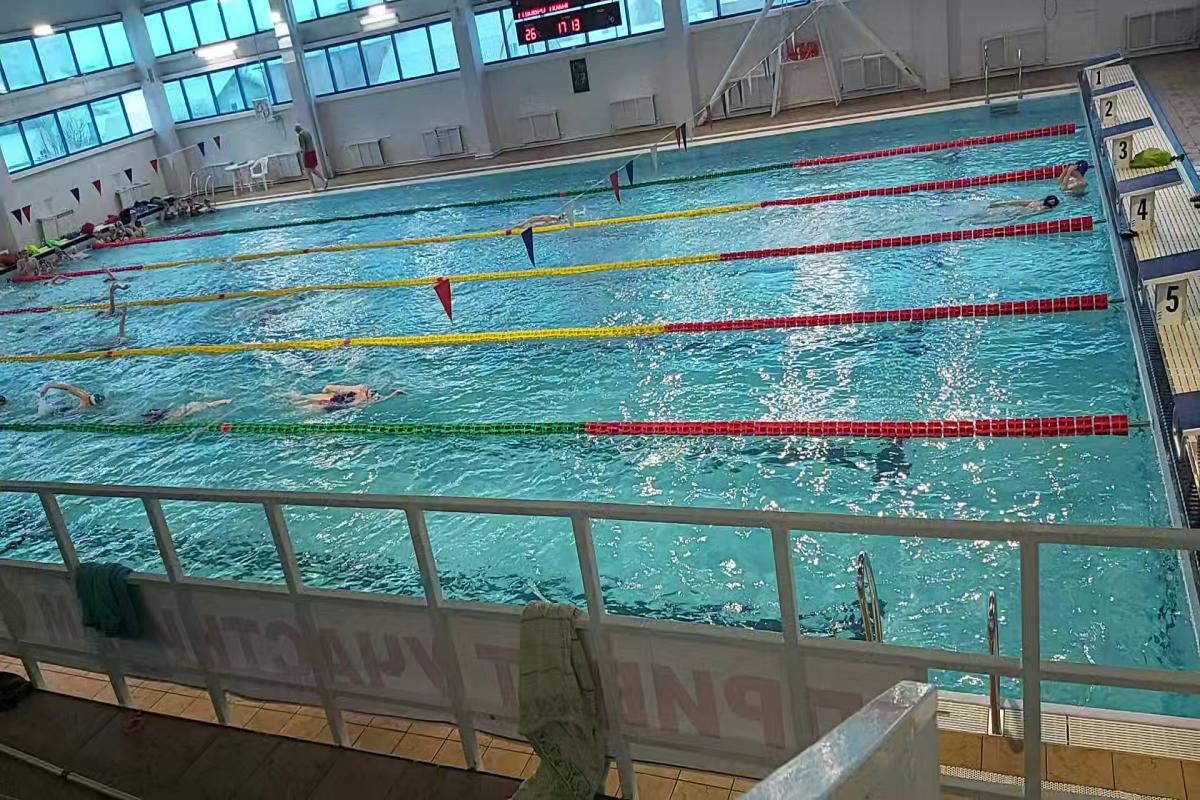swimmer: (276, 373, 413, 420), (33, 374, 115, 420), (967, 187, 1060, 222), (138, 388, 235, 420), (1052, 159, 1091, 200), (92, 291, 119, 327), (520, 208, 568, 226)
